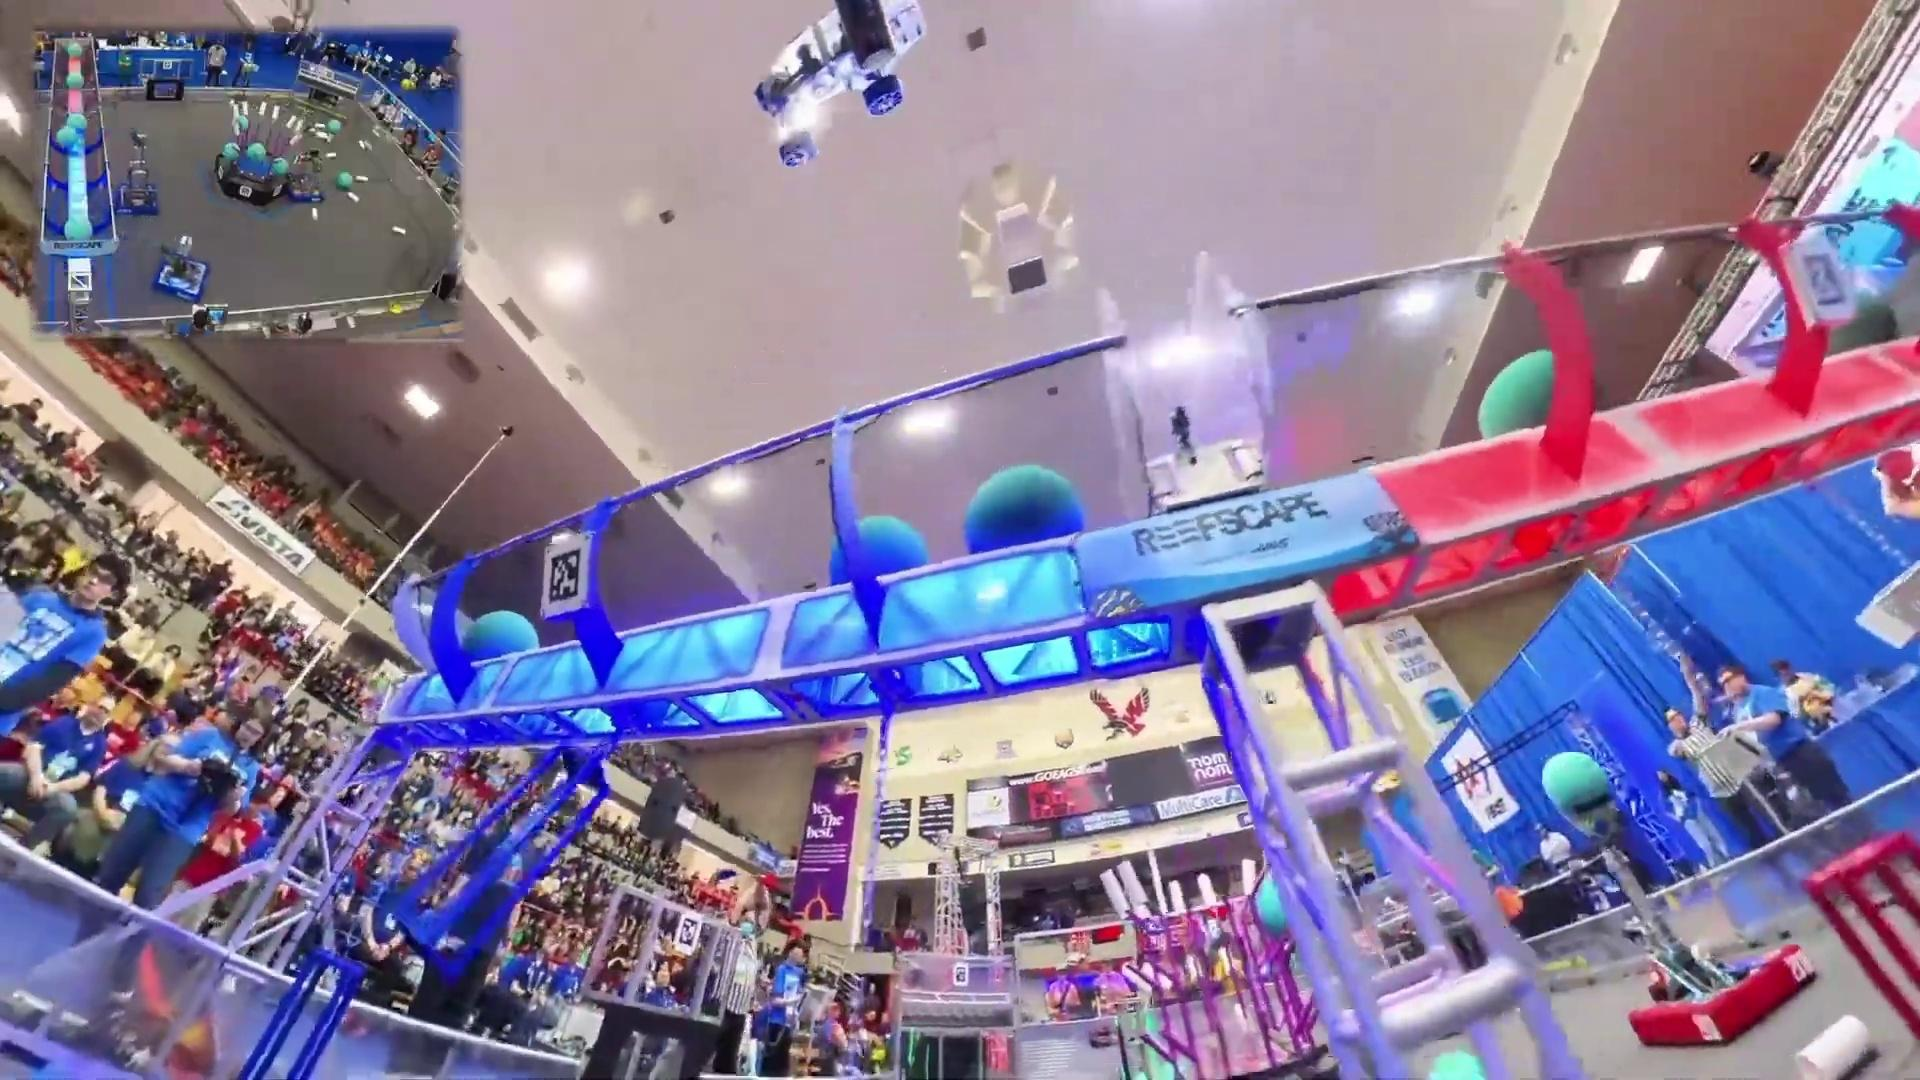robot: (1581, 811, 1816, 1051), (148, 235, 214, 305), (116, 127, 161, 218), (285, 144, 327, 204)
